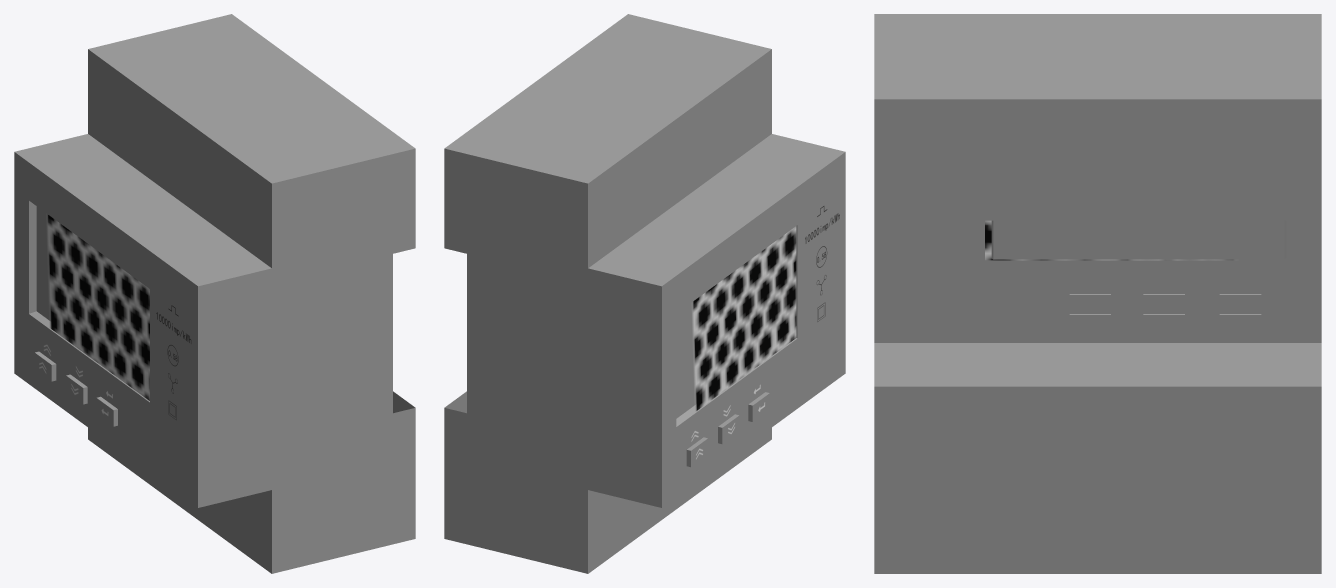
The model's file is ReverseMeter.glb.
The picture shows the model from 3 angles, left to right: view 1: azimuth 30°, elevation 25°; view 2: azimuth 150°, elevation 25°; view 3: azimuth 270°, elevation 25°; orthographic projection. The views are drawn at different scales.
Visible parts, largest first — view 1: ReverseMeter; view 2: ReverseMeter; view 3: ReverseMeter.
Boxes of the visible parts, left/top/right/bottom form: ReverseMeter: left=14, top=14, right=415, bottom=573; ReverseMeter: left=444, top=14, right=845, bottom=573; ReverseMeter: left=874, top=14, right=1321, bottom=573.
Bounding box in the file's own units: 0.0588 × 0.0988 × 0.0843.
Materials: 2 (1 with a texture image).
